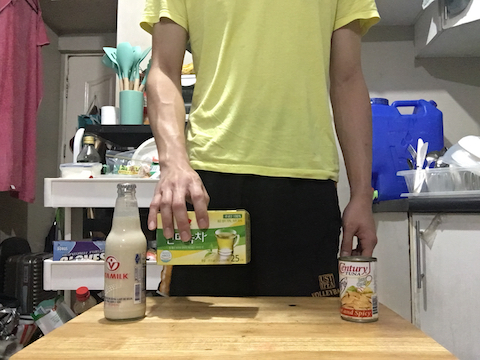bottle: (100, 181, 152, 323)
box: (153, 202, 256, 269)
can: (336, 254, 383, 324)
grab: (147, 168, 216, 241)
